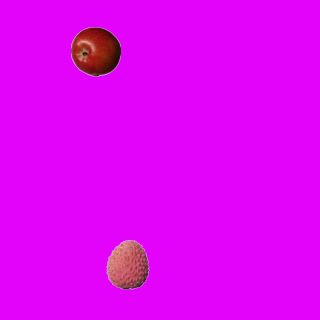Apple Braeburn: (70, 26, 120, 76)
Lychee: (102, 239, 152, 289)
